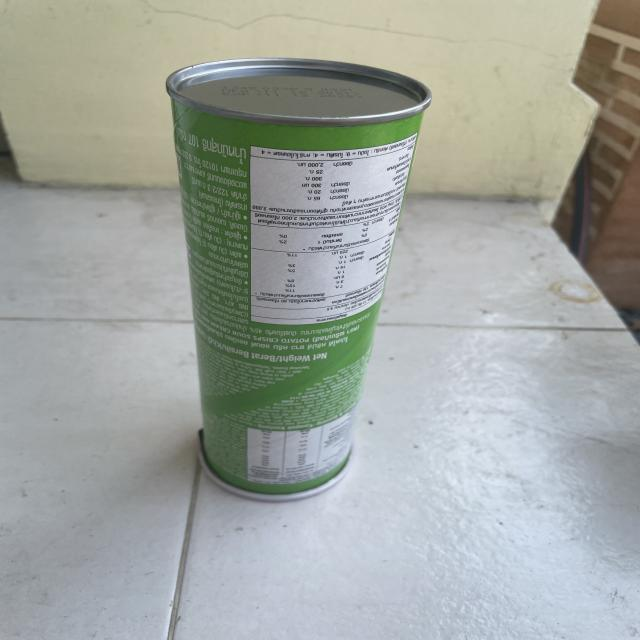a pringles: (157, 49, 443, 510)
